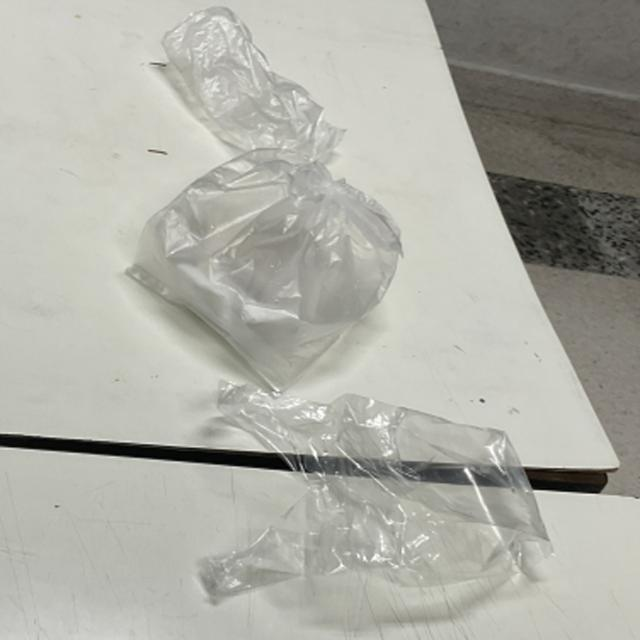Single-layer Plastic: (200, 382, 552, 601), (129, 149, 401, 389), (162, 6, 345, 162)
